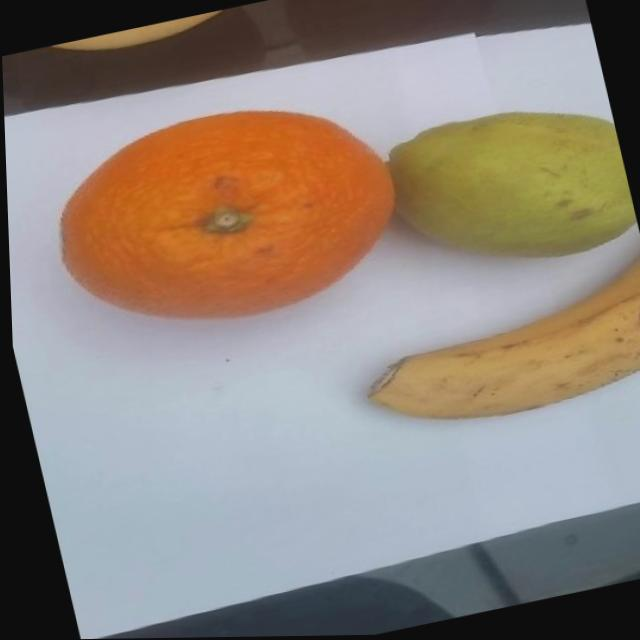Banana: (344, 257, 640, 446)
Orange: (34, 83, 416, 354)
